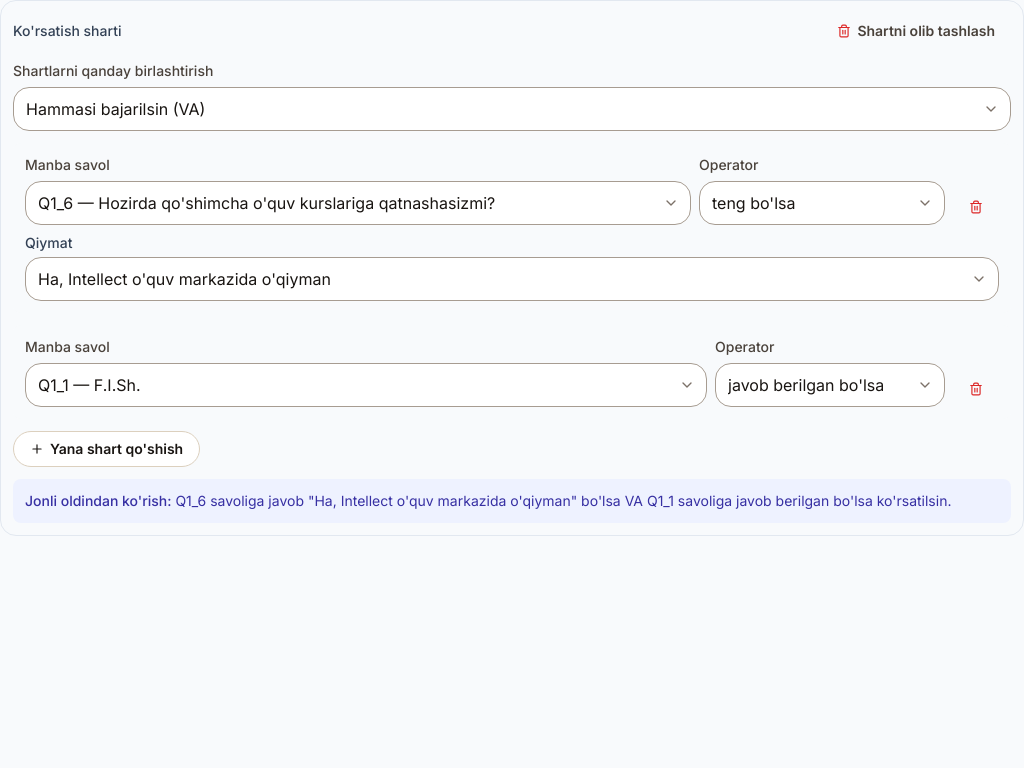
Test: VisibilityRuleEditor › ikkitadan ortiq shart bo'lganda VA/YOKI tanlovi ko'rinadi
Select "Kamida bittasi bajarilsin (YOKI)" in the dropdown labelled "Shartlarni qanday birlashtirish": x=512, y=109 [13,87,1011,131]
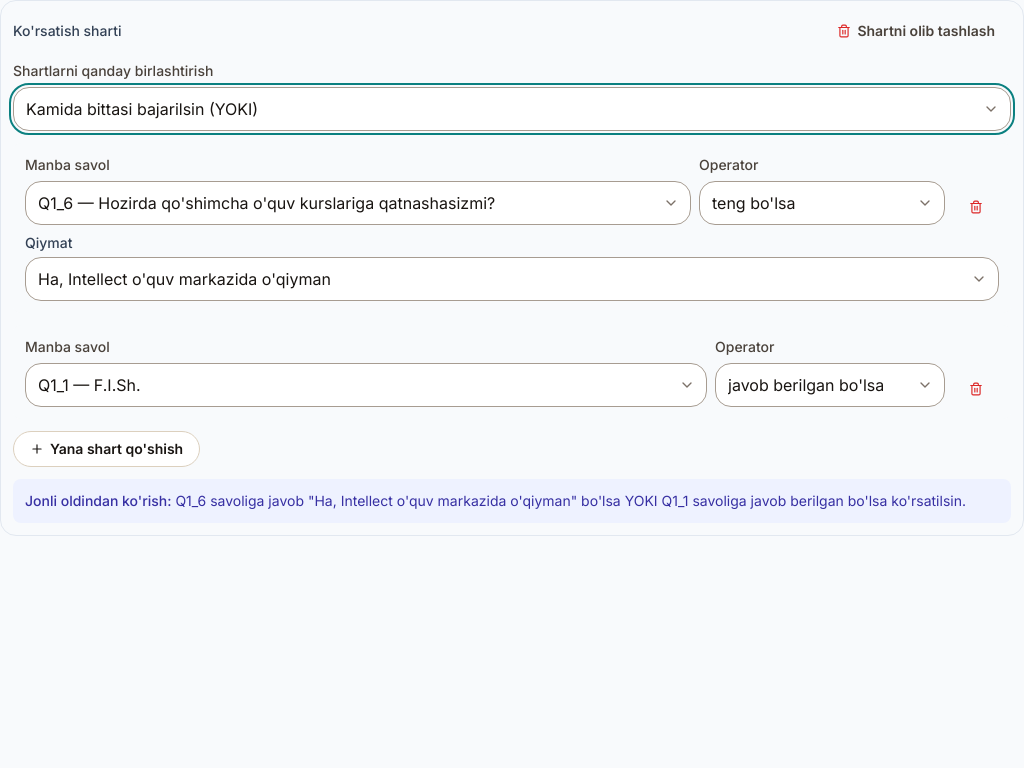
Check: the text " YOKI " is shown, box [175,492,966,509]
